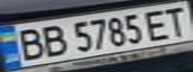5: (121, 11, 148, 45), (69, 18, 93, 53)
7: (87, 16, 109, 51)
8: (106, 14, 130, 47)
B: (9, 25, 48, 62), (36, 23, 69, 57)
E: (142, 7, 175, 42)
T: (160, 3, 193, 37)
